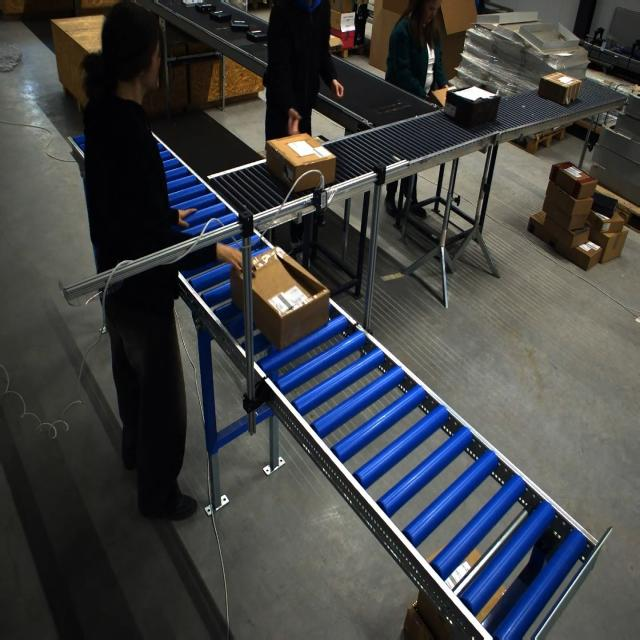box: (232, 246, 326, 354), (265, 134, 331, 193), (442, 84, 500, 129)
product: (246, 29, 268, 42), (210, 10, 233, 22), (230, 20, 250, 32), (195, 4, 216, 14)
